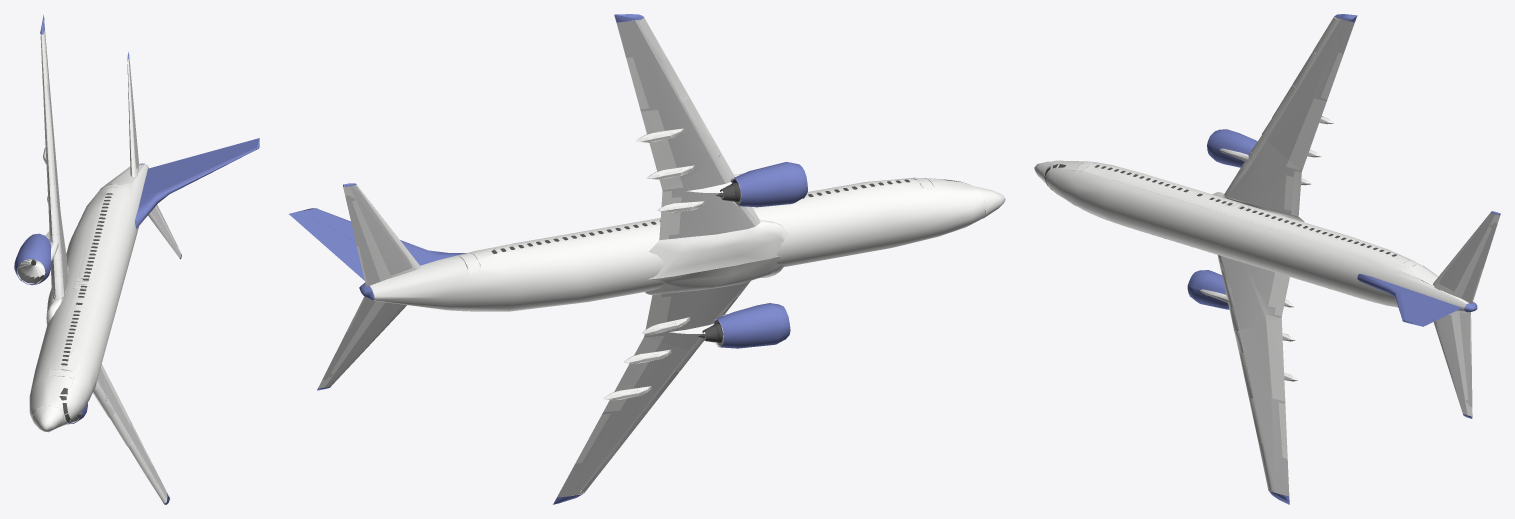
The model's file is boeing2.glb.
3 views of the same model, side by side, from view 1: azimuth 30°, elevation 25°; view 2: azimuth 150°, elevation 25°; view 3: azimuth 270°, elevation 25° (orthographic). The views are drawn at different scales.
Parts seen in each view (by area): view 1: Plane; view 2: Plane; view 3: Plane.
Boxes of the visible parts, x1,y1,x2,y2 form: Plane: (14, 15, 259, 504); Plane: (289, 14, 1005, 504); Plane: (1034, 14, 1500, 504).
Bounding box in the file's own units: 0.5415 × 0.5856 × 0.5522.
